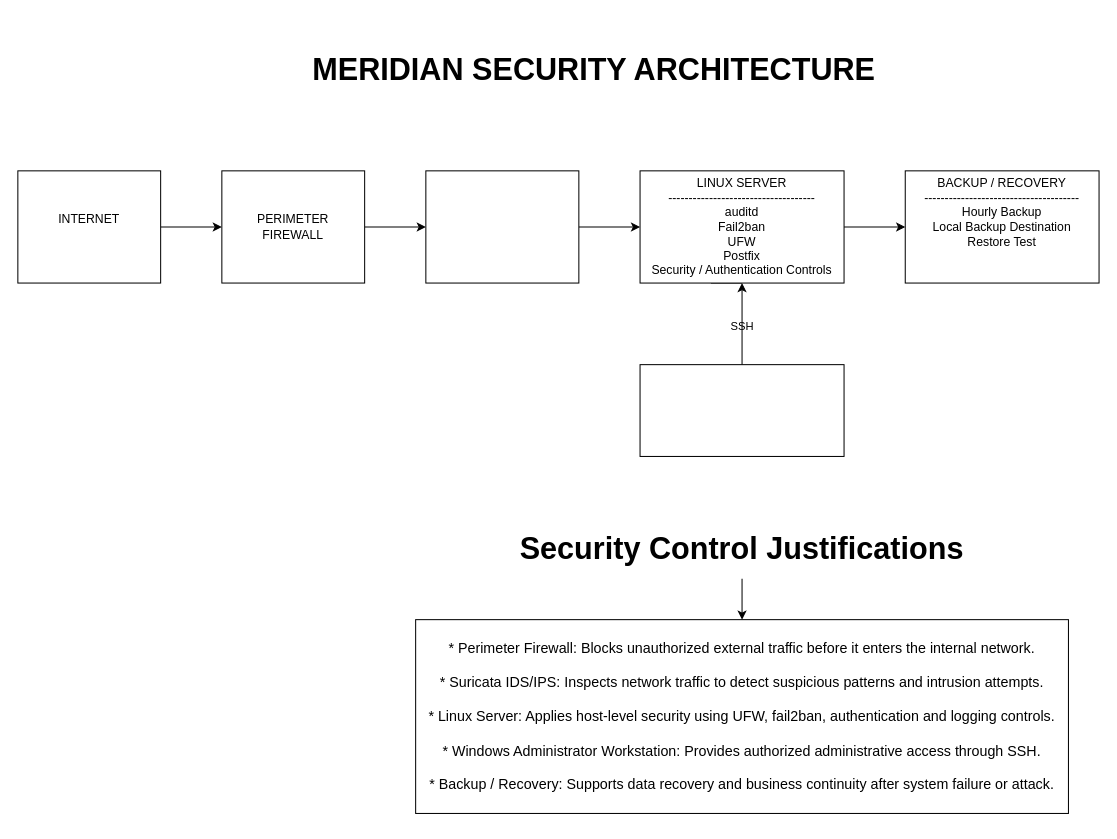
The diagram is 1117 pixels wide and 839 high, and some of its shapes have lost their labels. The centre of each missing label's shape, as x and y in pixels:
SURICATA IDS/IPS: (502,226)
WINDOWS ADMINISTATOR WORKSTATION: (741,410)
